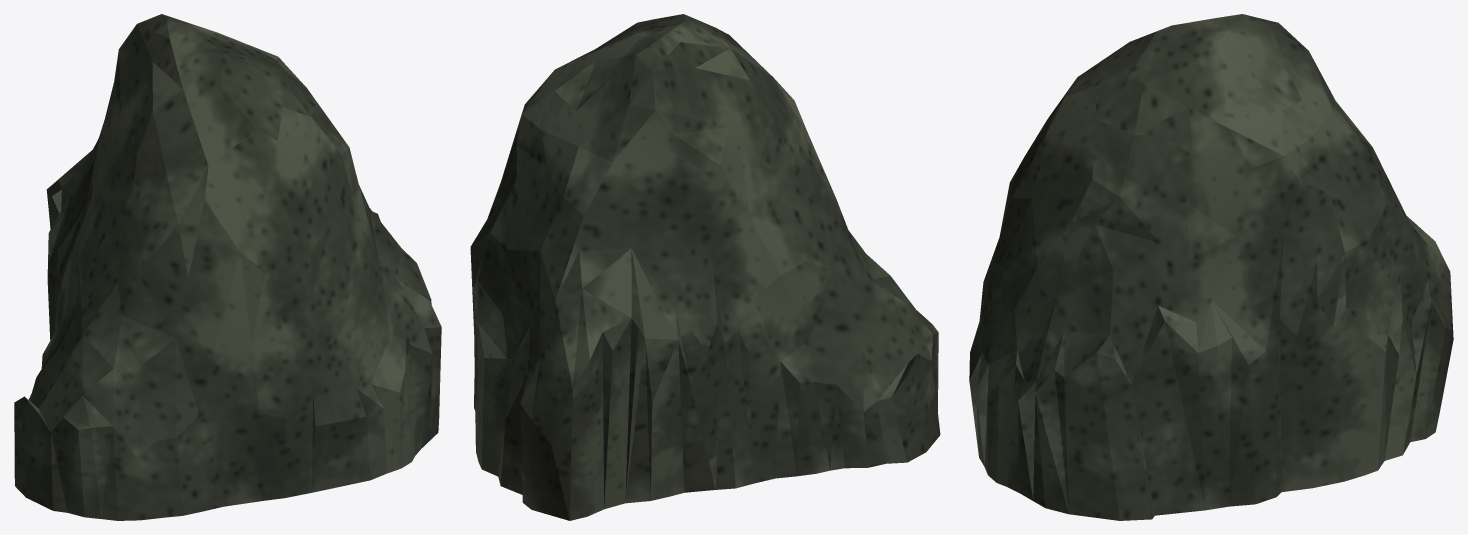
File: CRERock13.glb
The picture shows the model from 3 angles, left to right: view 1: azimuth 30°, elevation 25°; view 2: azimuth 150°, elevation 25°; view 3: azimuth 270°, elevation 25°; orthographic projection. The views are drawn at different scales.
Parts seen in each view (by area): view 1: CRERock13_rock; view 2: CRERock13_rock; view 3: CRERock13_rock.
Part boxes in pixels (x1,y1,x2,y2): CRERock13_rock: [14, 14, 441, 520]; CRERock13_rock: [470, 14, 940, 520]; CRERock13_rock: [969, 14, 1453, 520].
Size of the model in its own units: 3.71 by 3.43 by 3.72.
Materials: 1 (1 with a texture image).
